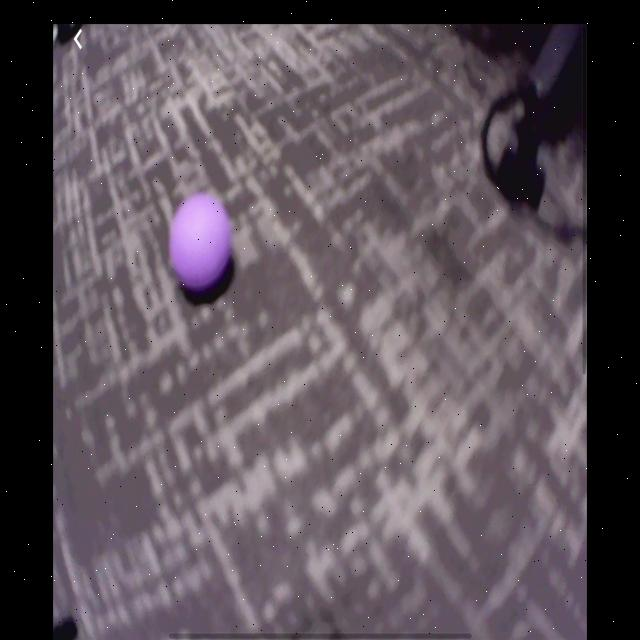ball: (168, 192, 234, 295)
